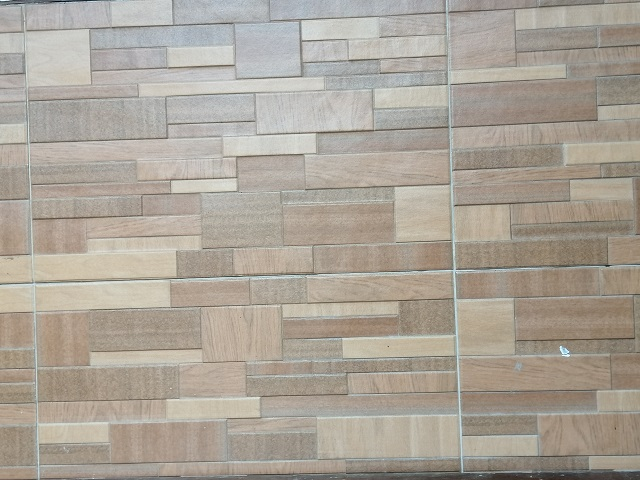wall: (2, 4, 640, 468)
